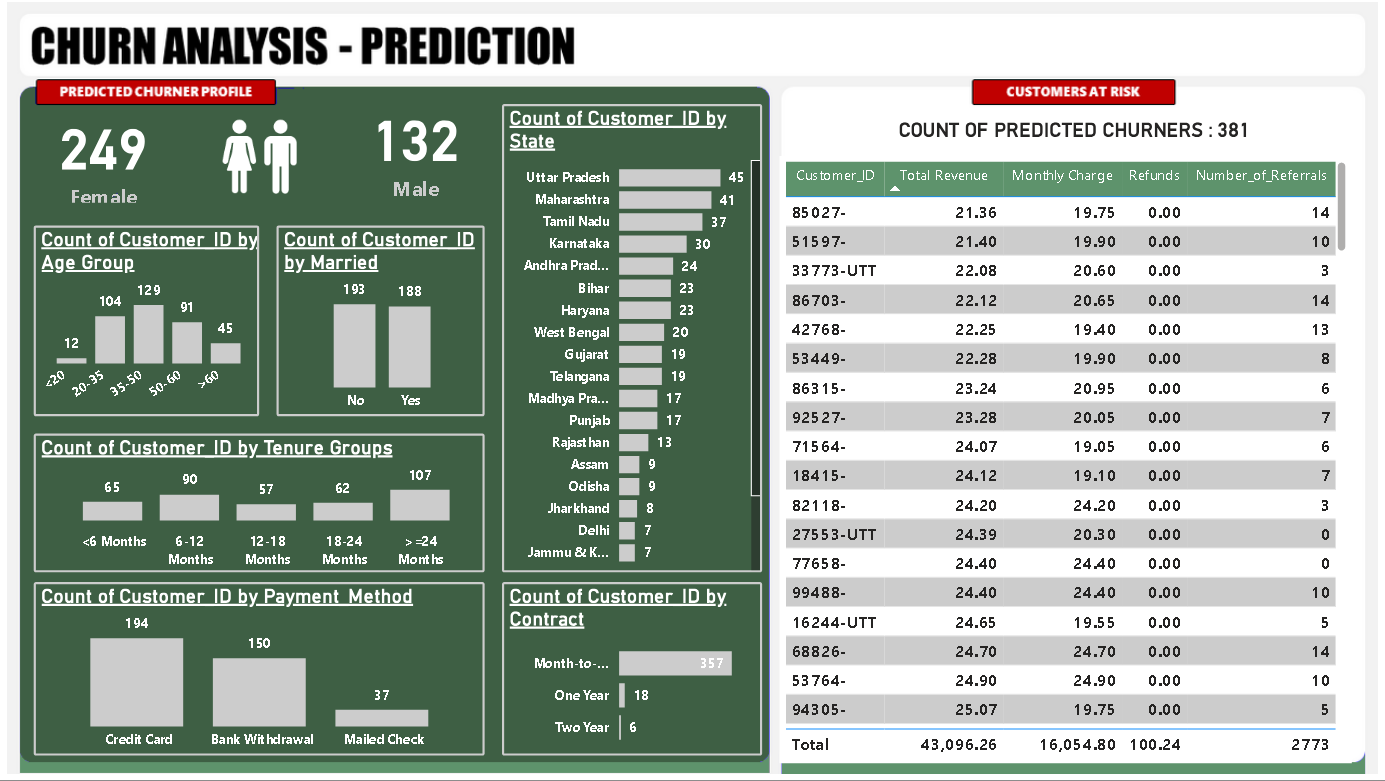

What the dashboard file says about the page in this screenshot:
{"tool":"powerbi","page":{"name":"Churn Prediction","canvas":[1280,720],"ordinal":2},"visuals":[{"type":"tableEx","fields":{"Values":["Predictions.Customer_ID","Sum(Predictions.Total_Revenue)","Sum(Predictions.Monthly_Charge)","Sum(Predictions.Total_Refunds)","Sum(Predictions.Number_of_Referrals)"]},"box":[720,144,528,560],"z":0},{"type":"card","fields":{"Values":["Measures_Table.Title Predicted Churner"]},"box":[800,96,384,48],"z":1000},{"type":"card","fields":{"Values":["Measures_Table.Count Predicted Churner"]},"box":[32,96,128,96],"z":2000},{"type":"card","fields":{"Values":["Measures_Table.Count Predicted Churner"]},"box":[320,80,128,112],"z":3000},{"type":"clusteredColumnChart","fields":{"Category":["Age Mapping.Age Group "],"Y":["CountNonNull(Predictions.Customer_ID)"]},"box":[32,208,208,176],"z":4000},{"type":"clusteredColumnChart","fields":{"Y":["CountNonNull(Predictions.Customer_ID)"],"Category":["Predictions.Married"]},"box":[256,208,192,176],"z":5000},{"type":"clusteredColumnChart","fields":{"Y":["CountNonNull(Predictions.Customer_ID)"],"Category":["Tenure Mapping.Tenure Groups"]},"box":[32,400,416,128],"z":6000},{"type":"clusteredColumnChart","fields":{"Y":["CountNonNull(Predictions.Customer_ID)"],"Category":["Predictions.Payment_Method"]},"box":[32,537,416,160],"z":7000},{"type":"barChart","fields":{"Category":["Predictions.Contract"],"Y":["CountNonNull(Predictions.Customer_ID)"]},"box":[464,537,240,160],"z":8000},{"type":"barChart","fields":{"Category":["Predictions.State"],"Y":["CountNonNull(Predictions.Customer_ID)"]},"box":[464,96,240,432],"z":9000},{"type":"image","box":[176,96,128,96],"z":9001}]}

Visuals, with their boxes in screenshot pixels (x1, y1, x2, y2), scaled from the page's 1280x720 canvas onto the 1385x781 screenshot:
tableEx - Predictions.Customer_ID x Sum(Predictions.Total_Revenue): pyautogui.locateOnScreen(779, 156, 1350, 764)
card - Measures_Table.Title Predicted Churner: pyautogui.locateOnScreen(866, 104, 1281, 156)
card - Measures_Table.Count Predicted Churner: pyautogui.locateOnScreen(35, 104, 173, 208)
card - Measures_Table.Count Predicted Churner: pyautogui.locateOnScreen(346, 87, 485, 208)
clusteredColumnChart - Age Mapping.Age Group  x CountNonNull(Predictions.Customer_ID): pyautogui.locateOnScreen(35, 226, 260, 417)
clusteredColumnChart - CountNonNull(Predictions.Customer_ID) x Predictions.Married: pyautogui.locateOnScreen(277, 226, 485, 417)
clusteredColumnChart - CountNonNull(Predictions.Customer_ID) x Tenure Mapping.Tenure Groups: pyautogui.locateOnScreen(35, 434, 485, 573)
clusteredColumnChart - CountNonNull(Predictions.Customer_ID) x Predictions.Payment_Method: pyautogui.locateOnScreen(35, 582, 485, 756)
barChart - Predictions.Contract x CountNonNull(Predictions.Customer_ID): pyautogui.locateOnScreen(502, 582, 762, 756)
barChart - Predictions.State x CountNonNull(Predictions.Customer_ID): pyautogui.locateOnScreen(502, 104, 762, 573)
image: pyautogui.locateOnScreen(190, 104, 329, 208)
